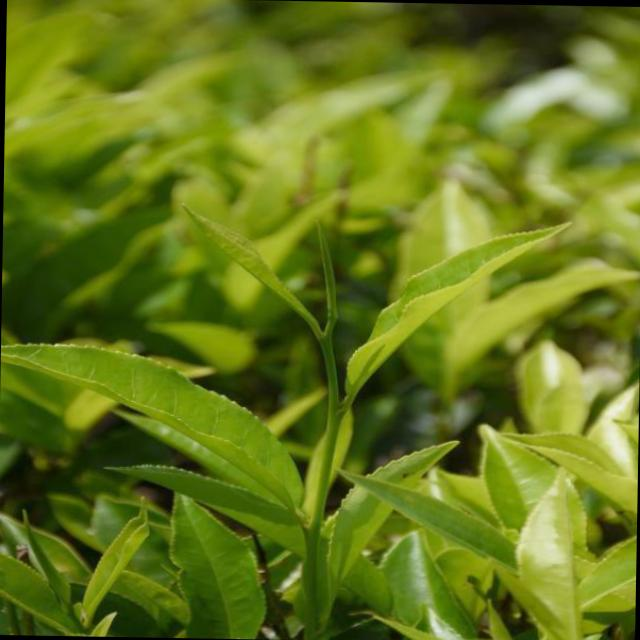Stem: (321, 413, 343, 459)
